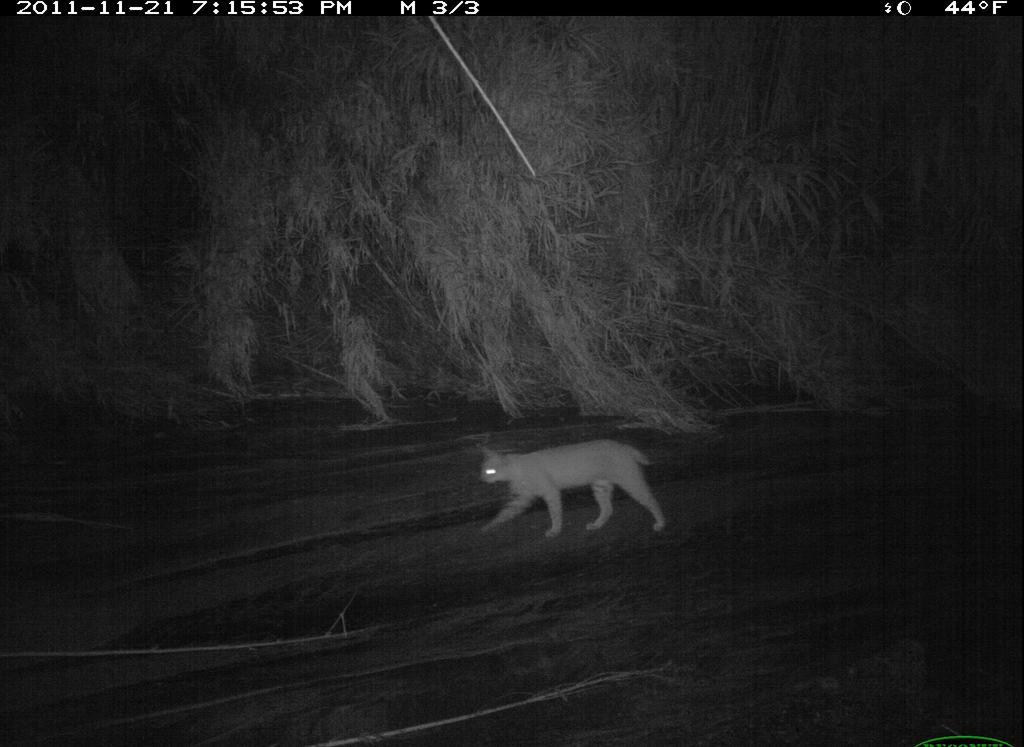bobcat: (451, 423, 681, 539)
